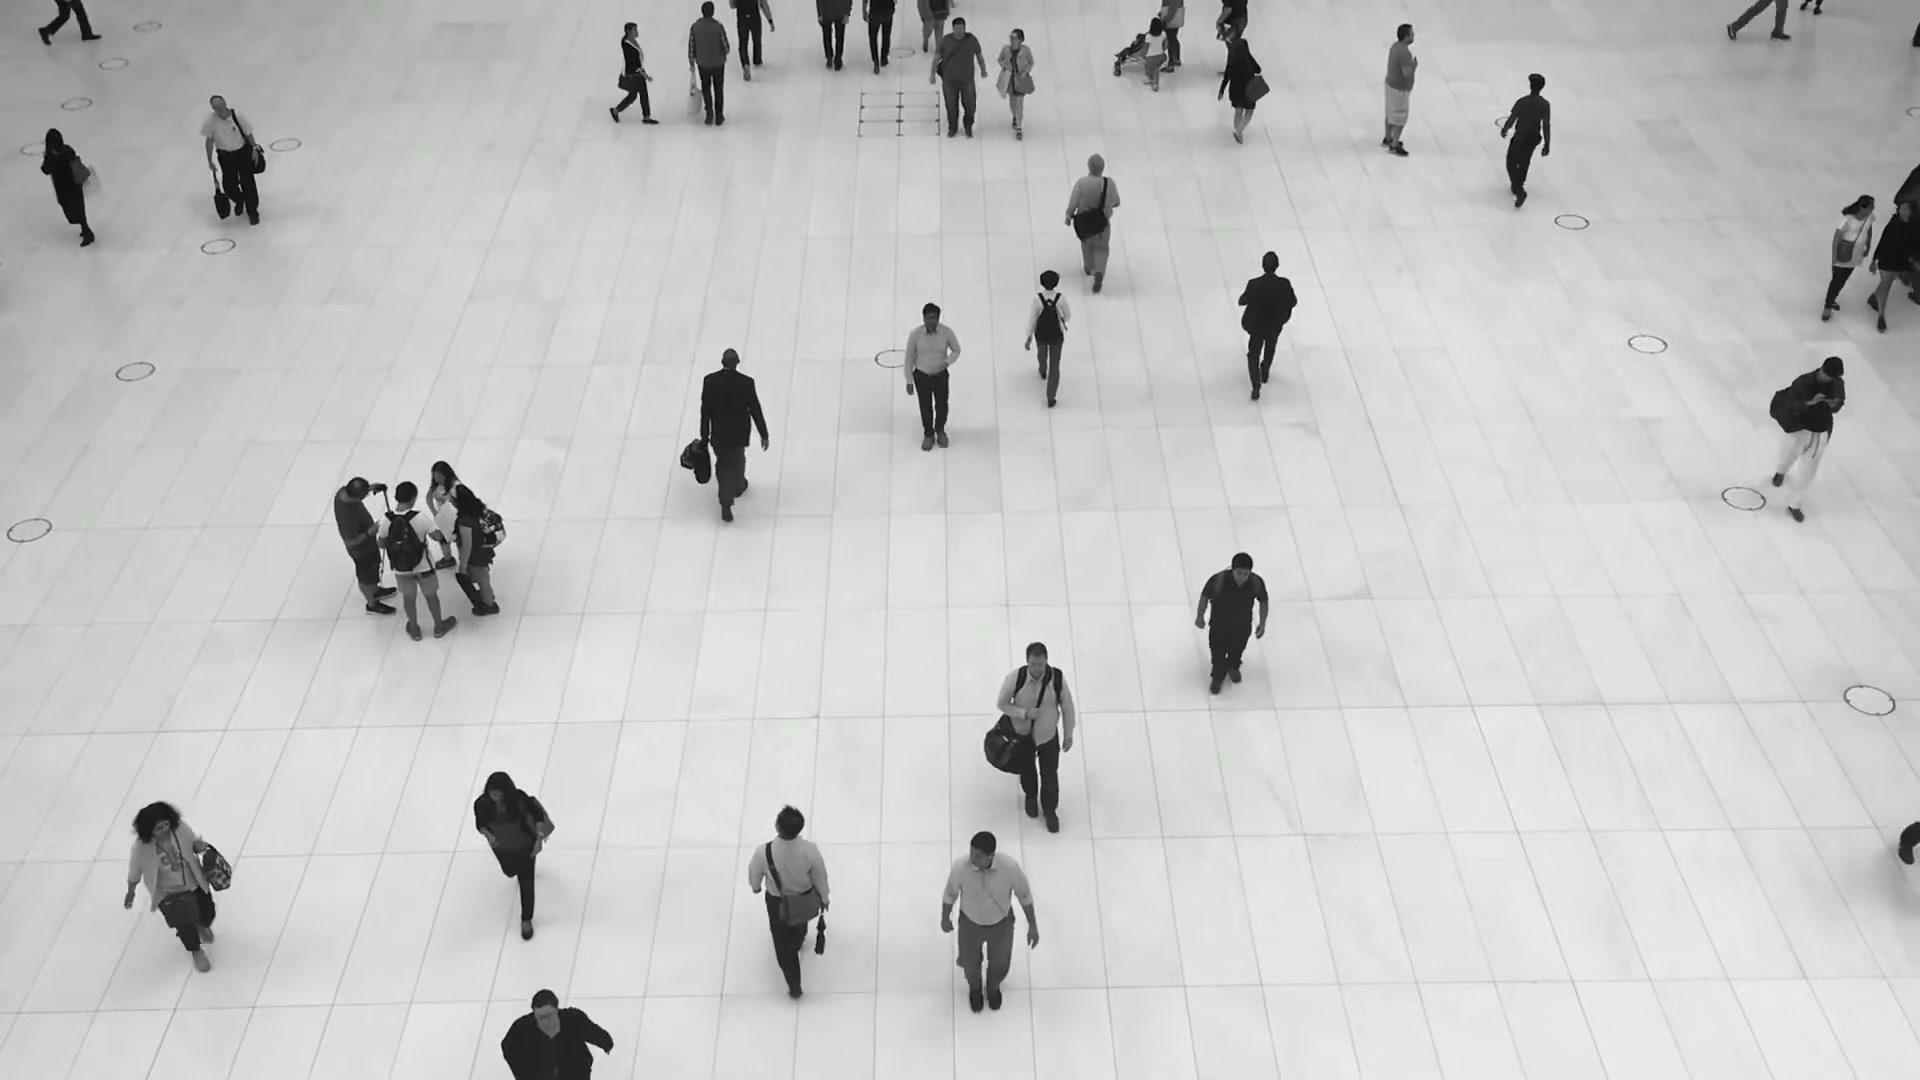person: (937, 830, 1036, 1031), (125, 800, 227, 972), (996, 643, 1077, 845), (748, 804, 830, 986), (377, 479, 459, 639), (1770, 353, 1847, 516), (696, 348, 769, 514), (473, 767, 547, 929), (1191, 552, 1269, 704), (501, 984, 612, 1079), (334, 469, 400, 614), (902, 301, 961, 460), (1235, 249, 1298, 394), (1064, 151, 1123, 287), (199, 94, 260, 224), (1866, 196, 1919, 330), (932, 17, 988, 144), (1821, 194, 1875, 323), (449, 483, 501, 615), (40, 127, 96, 248), (1025, 269, 1074, 408), (1502, 72, 1552, 204), (686, 3, 731, 130), (1380, 23, 1418, 157), (996, 28, 1036, 140), (1219, 39, 1260, 145), (425, 460, 461, 580), (613, 20, 654, 125), (1143, 16, 1166, 90)
